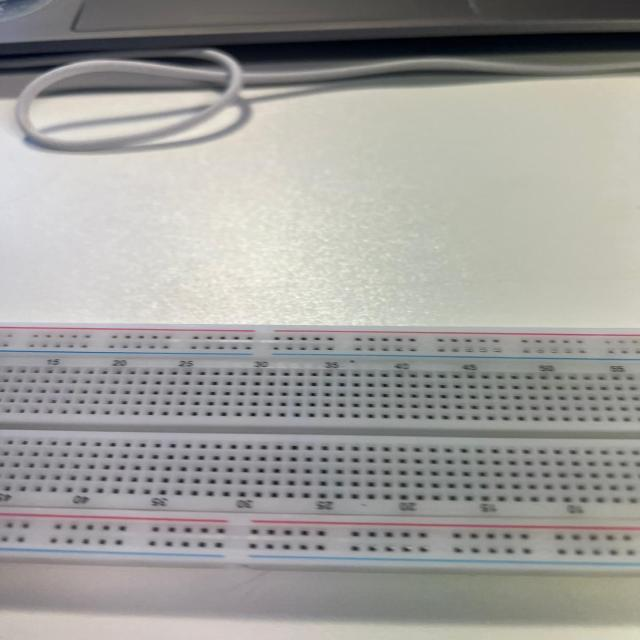BreadBoard: (13, 327, 640, 579)
